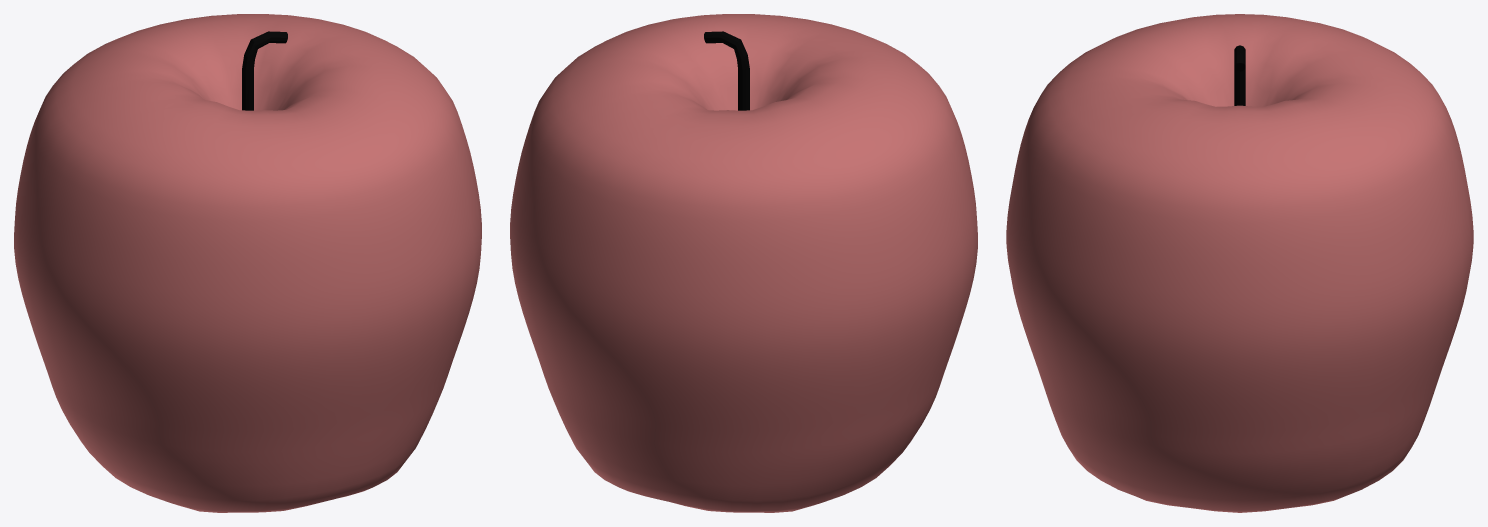
The model's file is apple4.fbx.
3 views of the same model, side by side, from view 1: azimuth 30°, elevation 25°; view 2: azimuth 150°, elevation 25°; view 3: azimuth 270°, elevation 25° (orthographic).
Parts seen in each view (by area): view 1: pSphere4; view 2: pSphere4; view 3: pSphere4.
Boxes of the visible parts, x1,y1,x2,y2 form: pSphere4: [14, 14, 481, 512]; pSphere4: [510, 14, 977, 512]; pSphere4: [1006, 14, 1473, 512].
Size of the model in its own units: 10.19 by 10.13 by 10.18.
